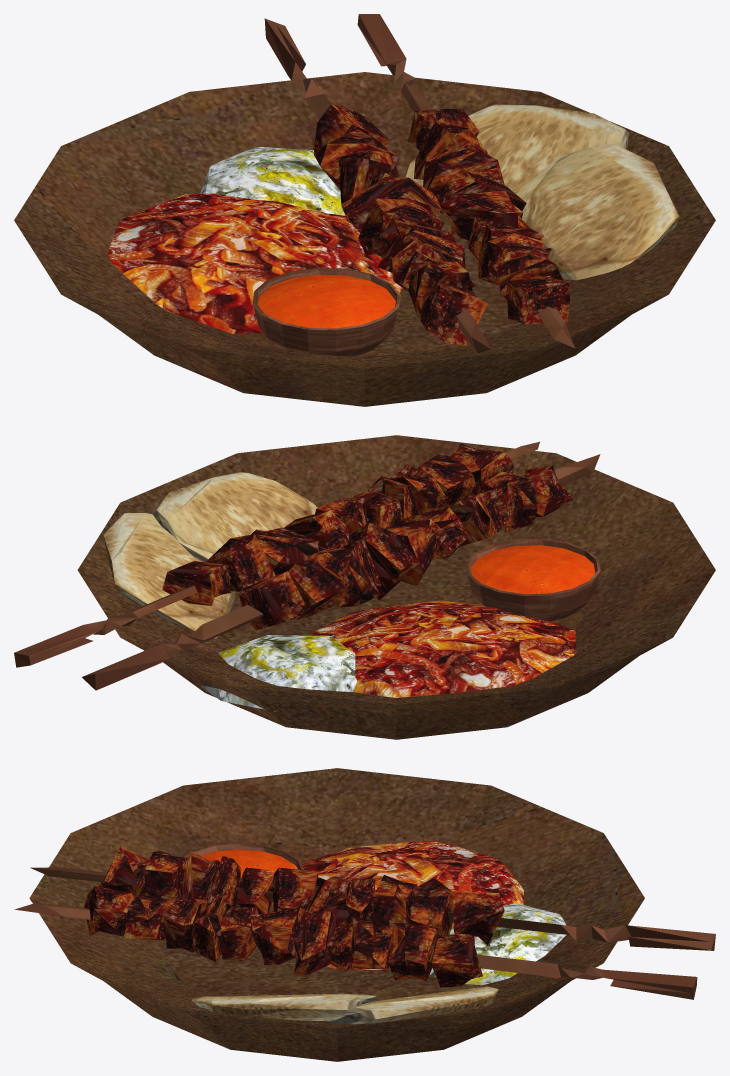
File: ITFO_GS_SHAW_05.glb
The picture shows the model from 3 angles, top to bottom: view 1: azimuth 30°, elevation 25°; view 2: azimuth 150°, elevation 25°; view 3: azimuth 270°, elevation 25°; orthographic projection. The views are drawn at different scales.
Visible parts, largest first — view 1: ITFO_GS_SHAW_05; view 2: ITFO_GS_SHAW_05; view 3: ITFO_GS_SHAW_05.
Part boxes in pixels (left/top/right/bottom): ITFO_GS_SHAW_05: left=14, top=14, right=715, bottom=406; ITFO_GS_SHAW_05: left=14, top=435, right=715, bottom=739; ITFO_GS_SHAW_05: left=14, top=768, right=715, bottom=1061.
Bounding box in the file's own units: 0.3731 × 0.0732 × 0.4254.
4 materials, 4 textured.
